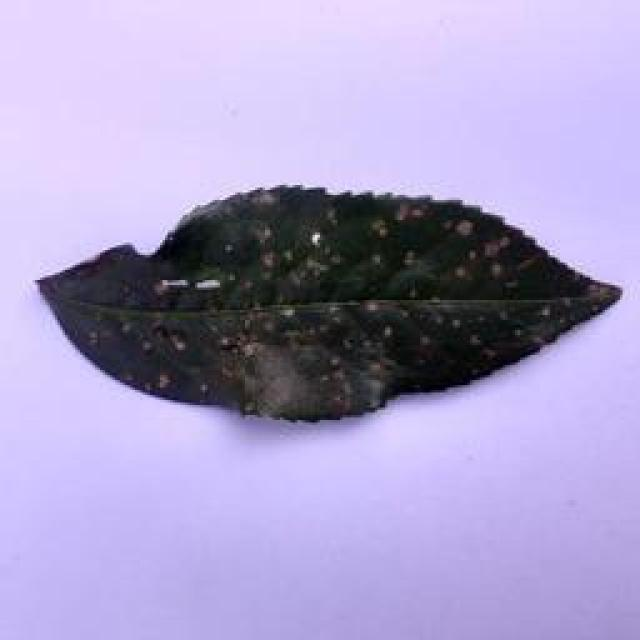Algal Leaf Spot: (56, 178, 637, 426)
